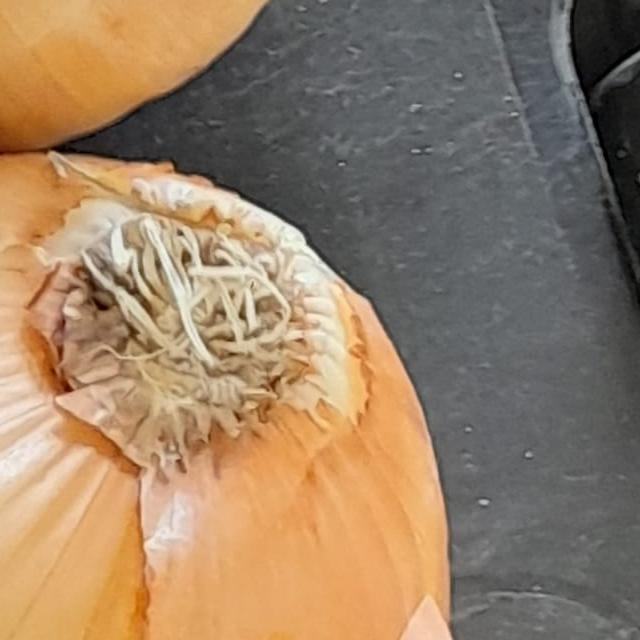onion: (0, 153, 473, 640)
